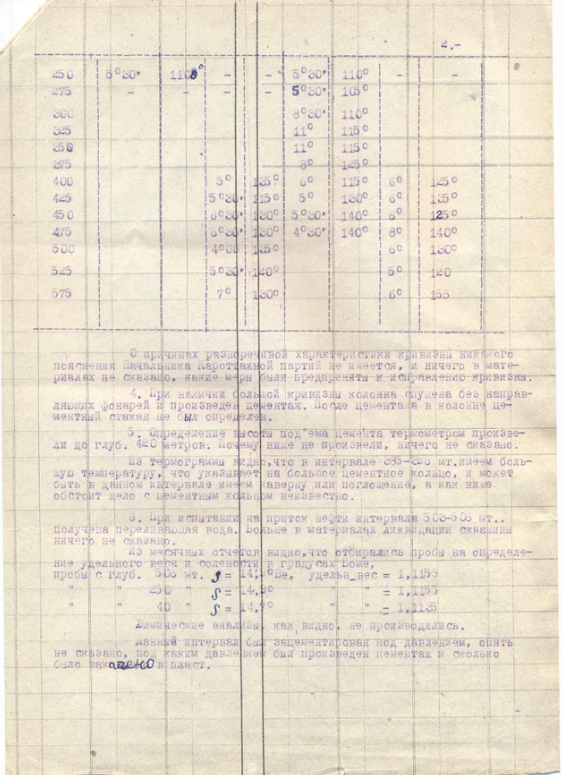Borderless: (35, 55, 511, 331)
